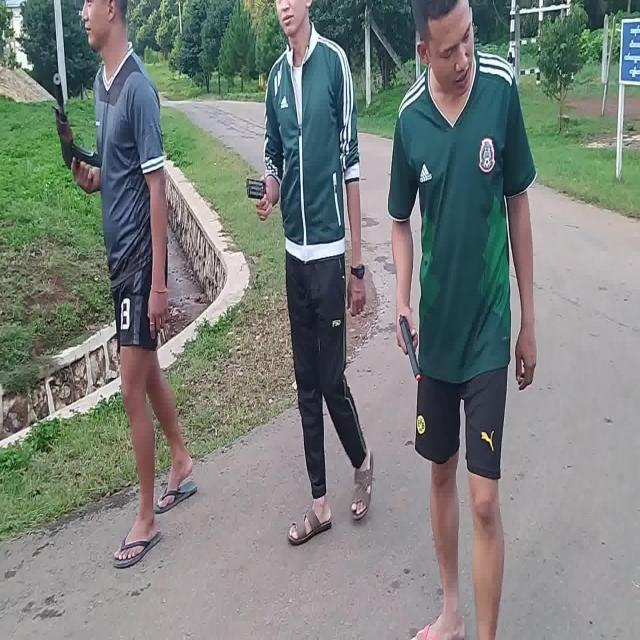gun: (53, 73, 103, 183), (399, 315, 421, 381)
